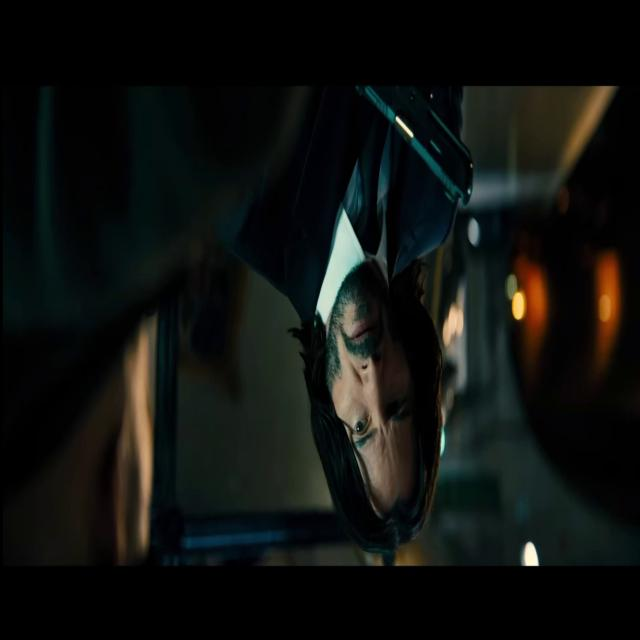weapons: (340, 85, 480, 231)
